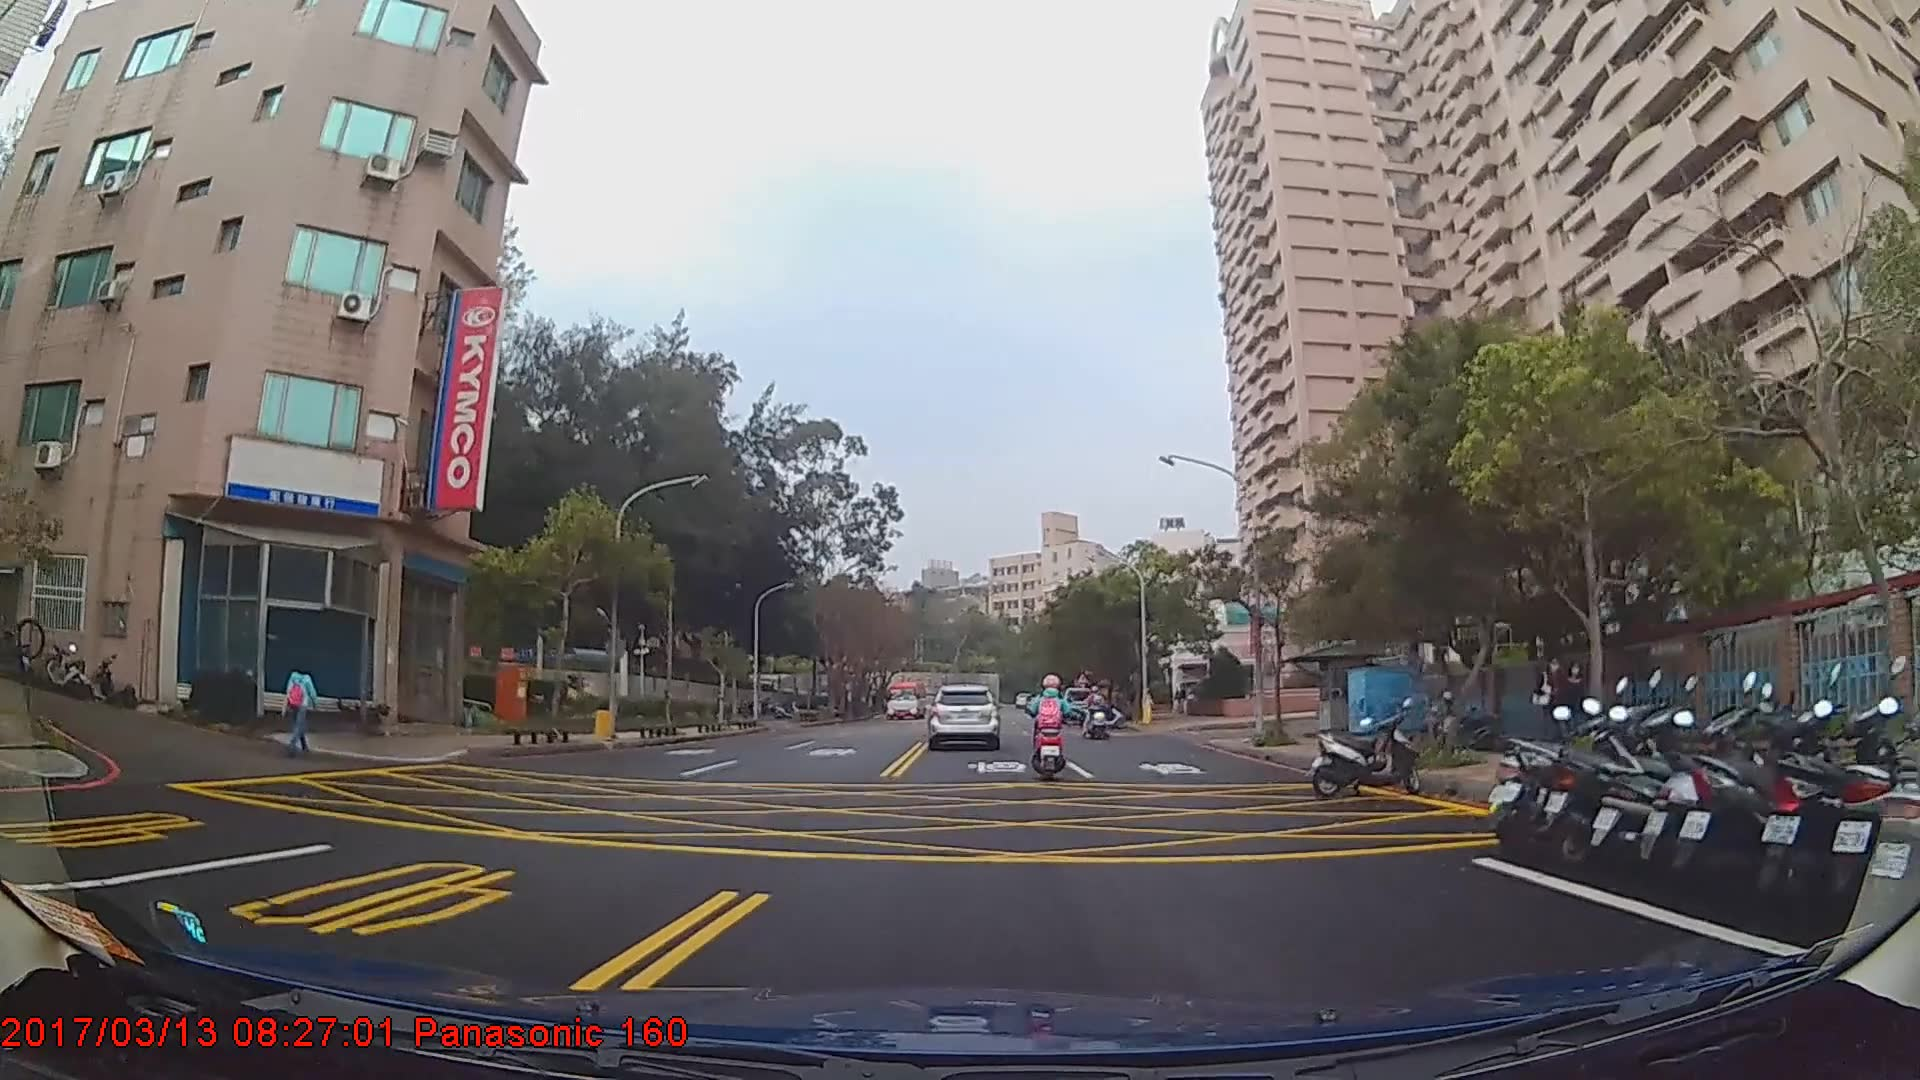pedestrian: (1528, 653, 1569, 756), (286, 655, 318, 758), (1557, 661, 1590, 754)
rider: (1027, 675, 1071, 784), (1082, 685, 1109, 738)
vehicle: (925, 683, 999, 748), (881, 678, 927, 719)
